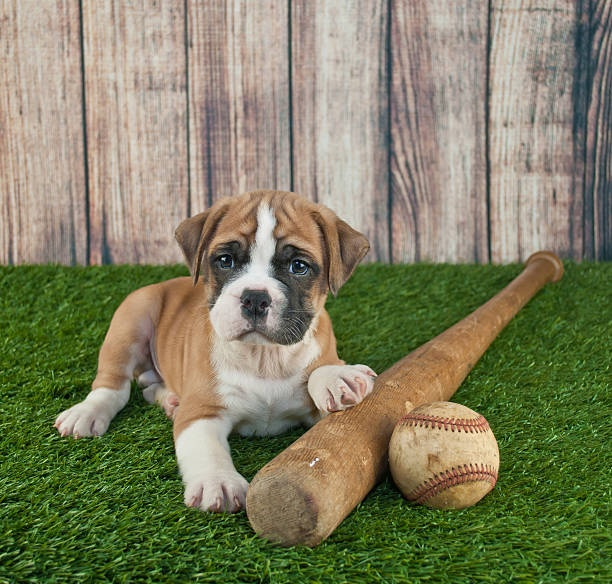bita: (244, 252, 556, 551)
